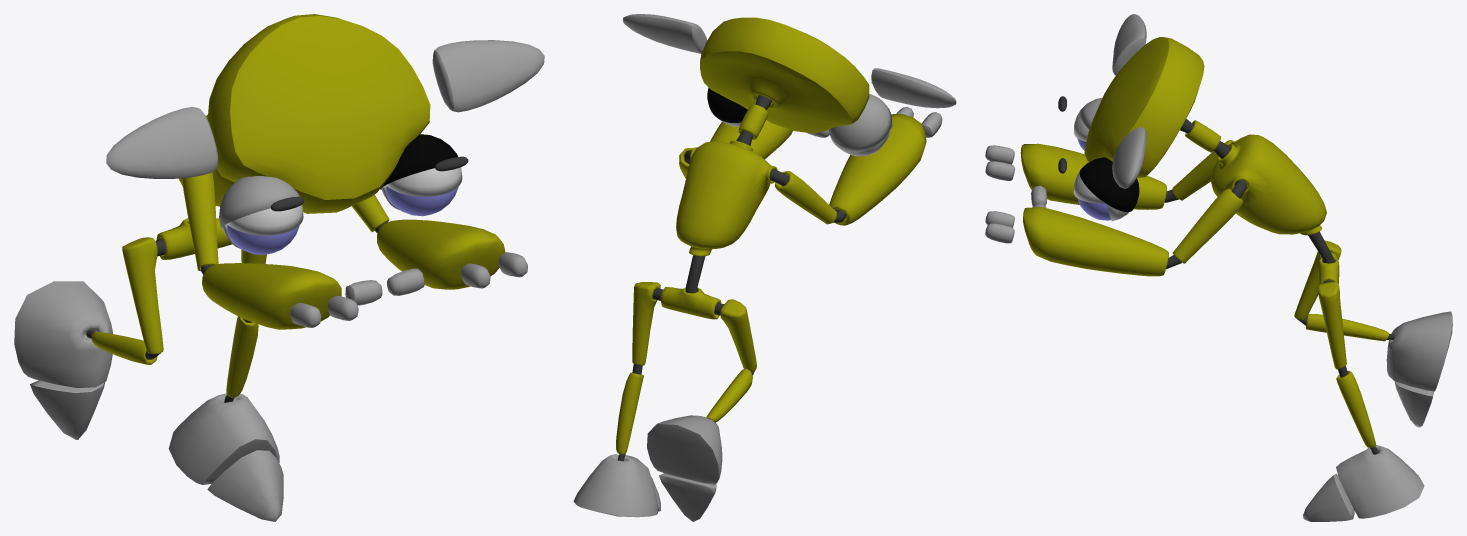
The model's file is push3.obj.
The picture shows the model from 3 angles, left to right: view 1: azimuth 30°, elevation 25°; view 2: azimuth 150°, elevation 25°; view 3: azimuth 270°, elevation 25°; orthographic projection. The views are drawn at different scales.
Visible parts, largest first — view 1: Mesh polySurface50, Mesh polySurface26, Mesh polySurface37, Mesh polySurface18, Mesh polySurface47, Mesh polySurface10, Mesh polySurface44, Mesh polySurface48, Mesh polySurface8, Mesh polySurface28, Mesh polySurface38, Mesh polySurface21 (+17 smaller); view 2: Mesh polySurface41, Mesh polySurface49, Mesh polySurface48, Mesh polySurface37, Mesh polySurface10, Mesh polySurface25, Mesh polySurface21, Mesh polySurface45, Mesh polySurface42, Mesh polySurface12, Mesh polySurface23, Mesh polySurface28 (+9 smaller); view 3: Mesh polySurface41, Mesh polySurface18, Mesh polySurface50, Mesh polySurface48, Mesh polySurface10, Mesh polySurface26, Mesh polySurface37, Mesh polySurface51, Mesh polySurface4, Mesh polySurface12, Mesh polySurface8, Mesh polySurface44 (+7 smaller).
Part boxes in pixels (left/top/right/bottom): Mesh polySurface50: left=230, top=16, right=430, bottom=199; Mesh polySurface26: left=14, top=281, right=112, bottom=387; Mesh polySurface37: left=202, top=263, right=341, bottom=329; Mesh polySurface18: left=377, top=219, right=505, bottom=289; Mesh polySurface47: left=106, top=107, right=217, bottom=178; Mesh polySurface10: left=168, top=393, right=279, bottom=484; Mesh polySurface44: left=434, top=40, right=544, bottom=112; Mesh polySurface48: left=207, top=14, right=429, bottom=213; Mesh polySurface8: left=207, top=450, right=283, bottom=521; Mesh polySurface28: left=122, top=237, right=163, bottom=354; Mesh polySurface38: left=182, top=172, right=218, bottom=271; Mesh polySurface21: left=219, top=176, right=299, bottom=228; Mesh polySurface41: left=676, top=140, right=777, bottom=256; Mesh polySurface49: left=700, top=51, right=852, bottom=133; Mesh polySurface48: left=700, top=17, right=869, bottom=123; Mesh polySurface37: left=829, top=114, right=926, bottom=225; Mesh polySurface10: left=573, top=454, right=657, bottom=517; Mesh polySurface25: left=647, top=424, right=718, bottom=484; Mesh polySurface21: left=828, top=94, right=891, bottom=152; Mesh polySurface45: left=871, top=70, right=956, bottom=108; Mesh polySurface42: left=622, top=16, right=701, bottom=53; Mesh polySurface12: left=632, top=282, right=660, bottom=365; Mesh polySurface23: left=659, top=473, right=716, bottom=521; Mesh polySurface28: left=720, top=299, right=756, bottom=371; Mesh polySurface41: left=1210, top=134, right=1326, bottom=235; Mesh polySurface18: left=1023, top=207, right=1168, bottom=276; Mesh polySurface50: left=1084, top=37, right=1169, bottom=161; Mesh polySurface48: left=1088, top=37, right=1204, bottom=177; Mesh polySurface10: left=1336, top=445, right=1424, bottom=518; Mesh polySurface26: left=1386, top=311, right=1452, bottom=391; Mesh polySurface37: left=1020, top=143, right=1166, bottom=209; Mesh polySurface51: left=1172, top=188, right=1243, bottom=263; Mesh polySurface4: left=1079, top=157, right=1139, bottom=212; Mesh polySurface12: left=1317, top=281, right=1346, bottom=369; Mesh polySurface8: left=1303, top=475, right=1352, bottom=521; Mesh polySurface44: left=1112, top=127, right=1144, bottom=187.
Bounding box in the file's own units: 10.05 × 12.79 × 12.01.
